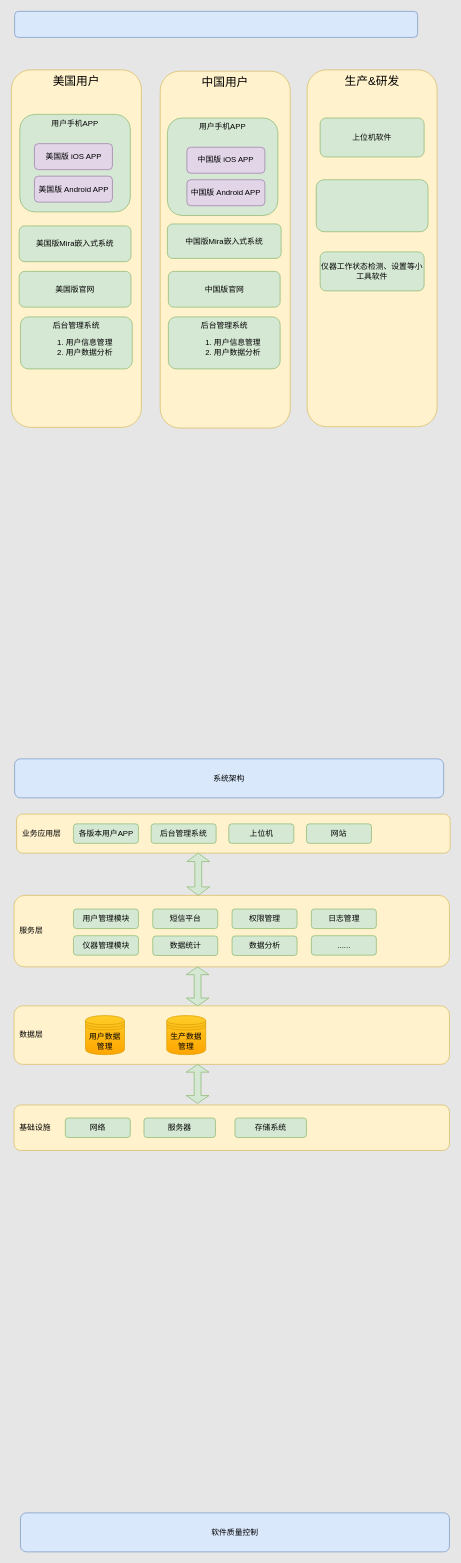
This 461x1563 diagram has some shape labels left out. The shapes that lost their labels are listed below. From the top down, each one's centre as x and y in pixels, then its label:
At pixel 216 24: "软件产品".
At pixel 372 205: "后台管理系统 生产数据管理 QA测试数据管理".
